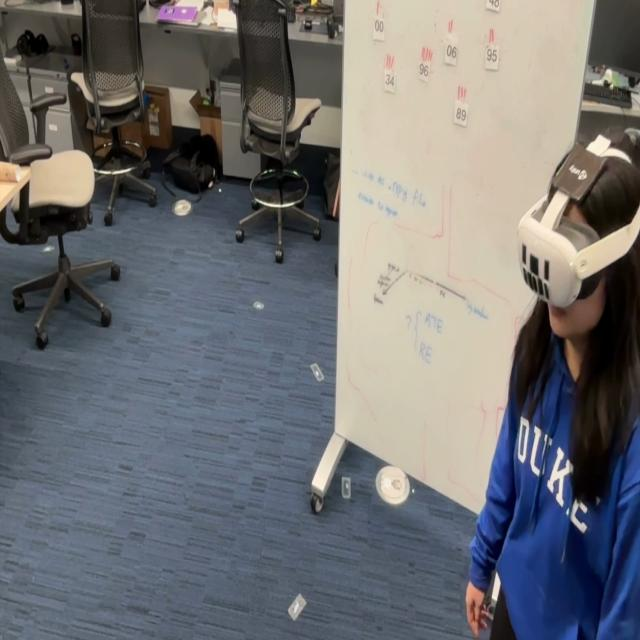Headset: (516, 127, 639, 309)
UnityLogo: (550, 137, 606, 205)
